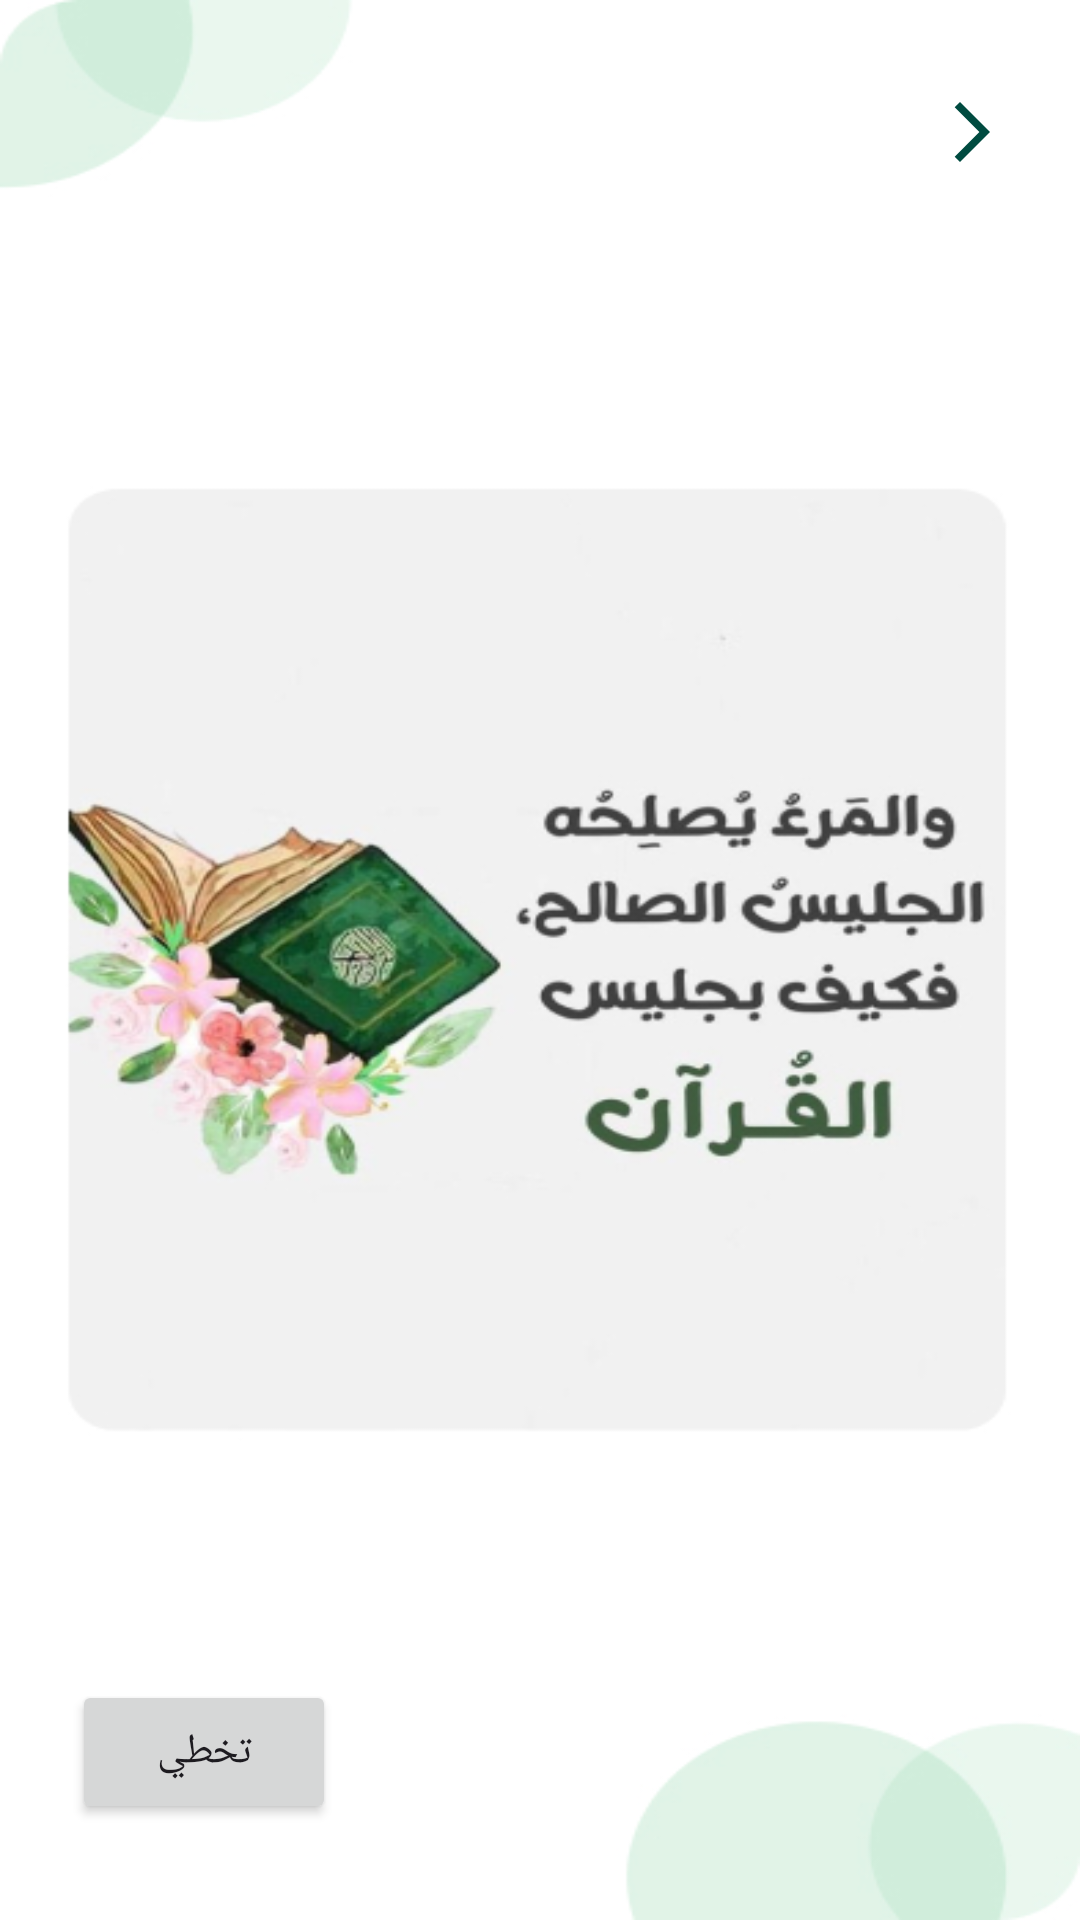

Locate icon controls on the screen. Image size 1080px×1920px, boxes as (x1, y1, x2, y2).
next: (955, 102, 990, 162)
